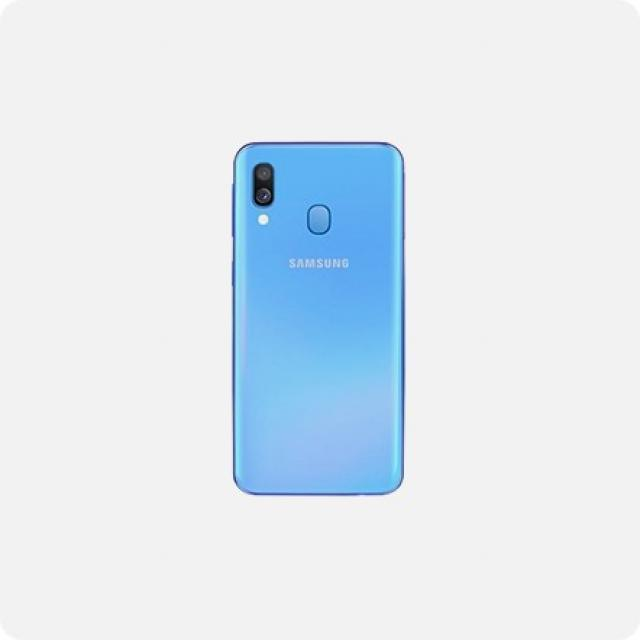Mobile: (225, 130, 411, 500)
